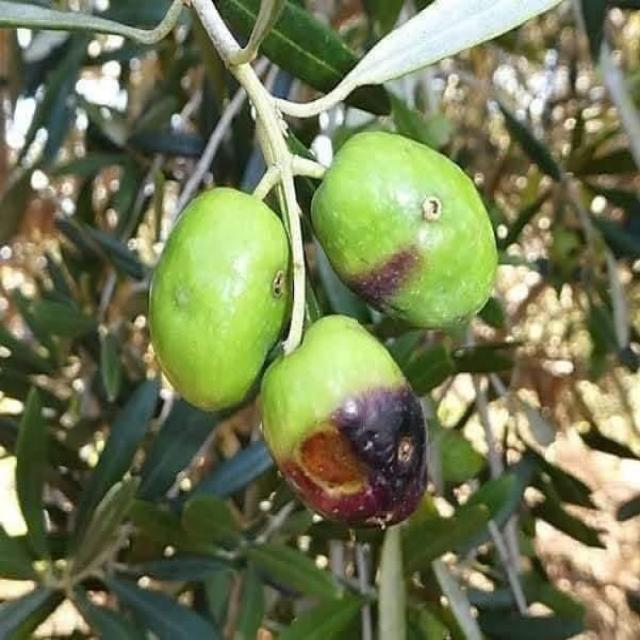Olive Fruit Fly: (311, 132, 497, 327), (260, 314, 427, 526), (149, 188, 291, 412)
